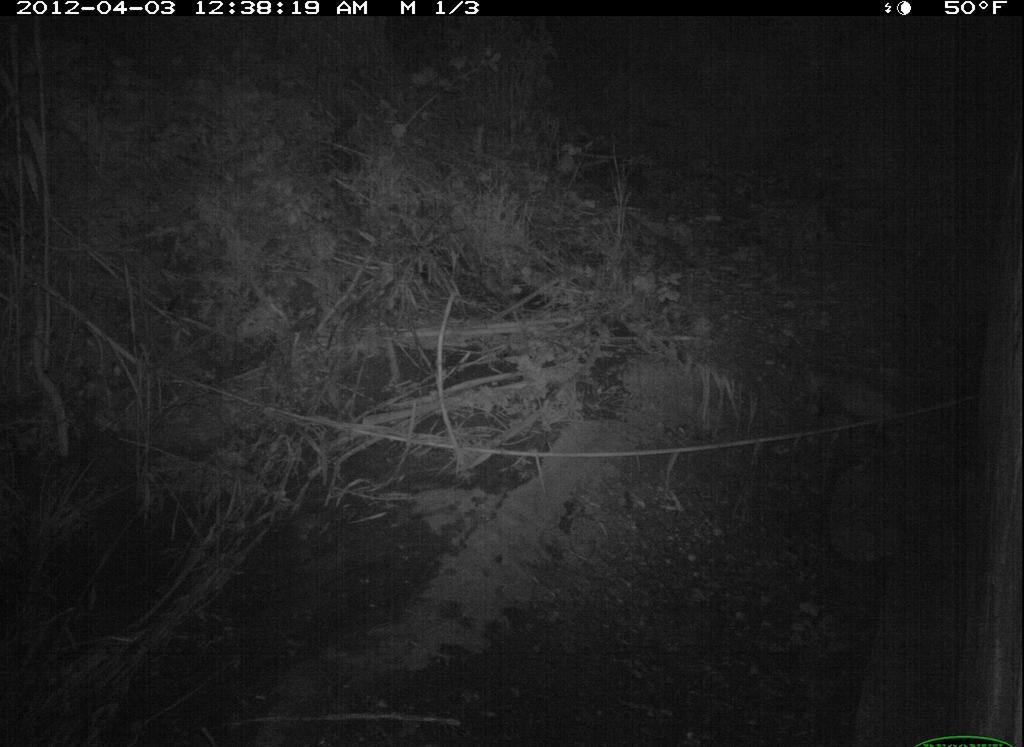opossum: (806, 347, 911, 454)
